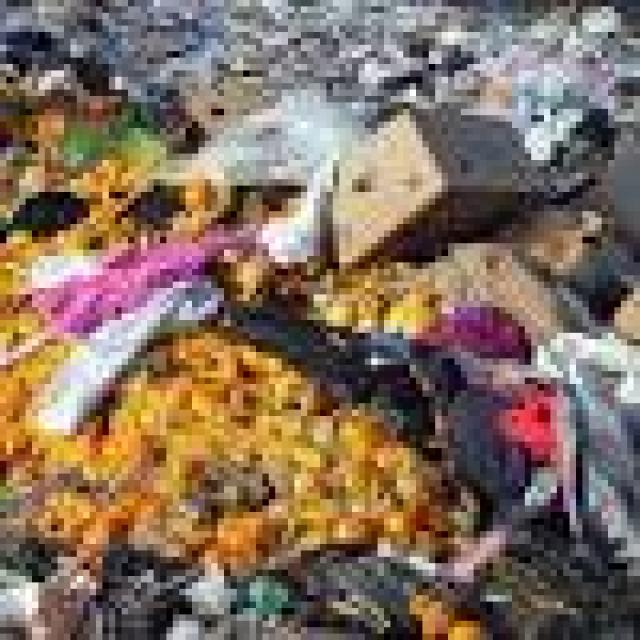Food -Biodegradable-: (0, 37, 555, 564)
